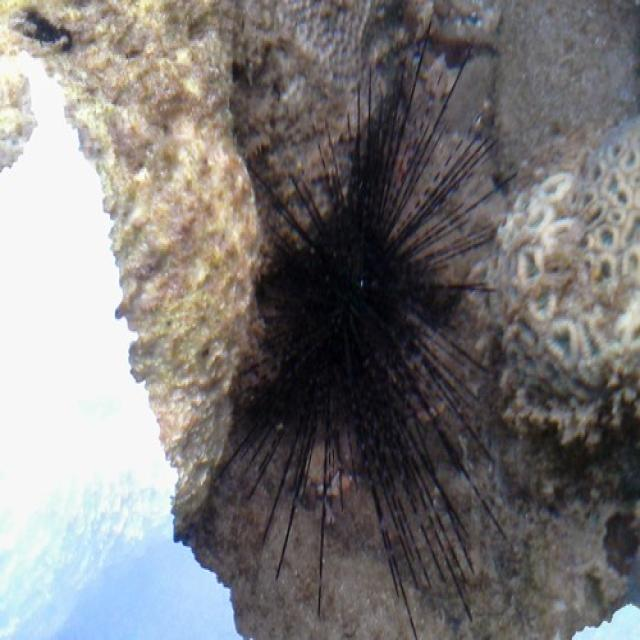Urchin: (236, 22, 520, 623)
